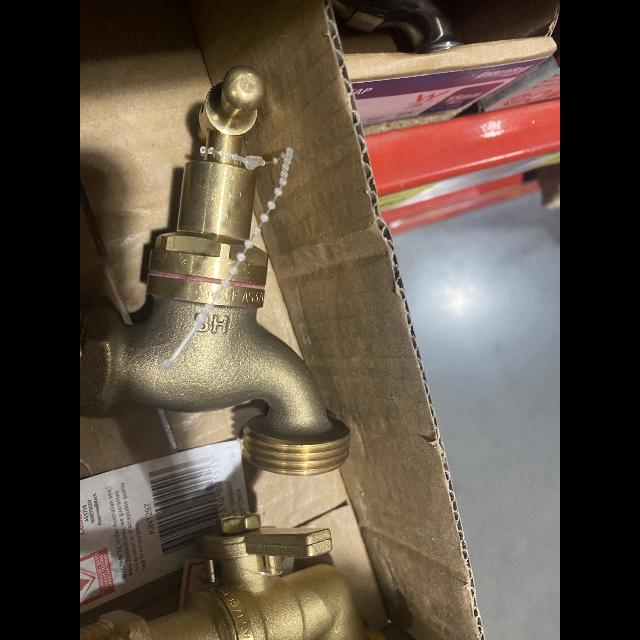Brass: (80, 275, 349, 475), (80, 514, 387, 640), (151, 158, 255, 278), (198, 66, 266, 154), (232, 246, 268, 285)
